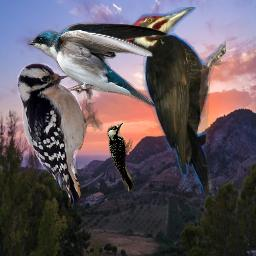Swallow: (27, 21, 169, 108)
Woodpecker: (116, 7, 226, 194), (17, 63, 103, 209), (104, 120, 139, 197)
